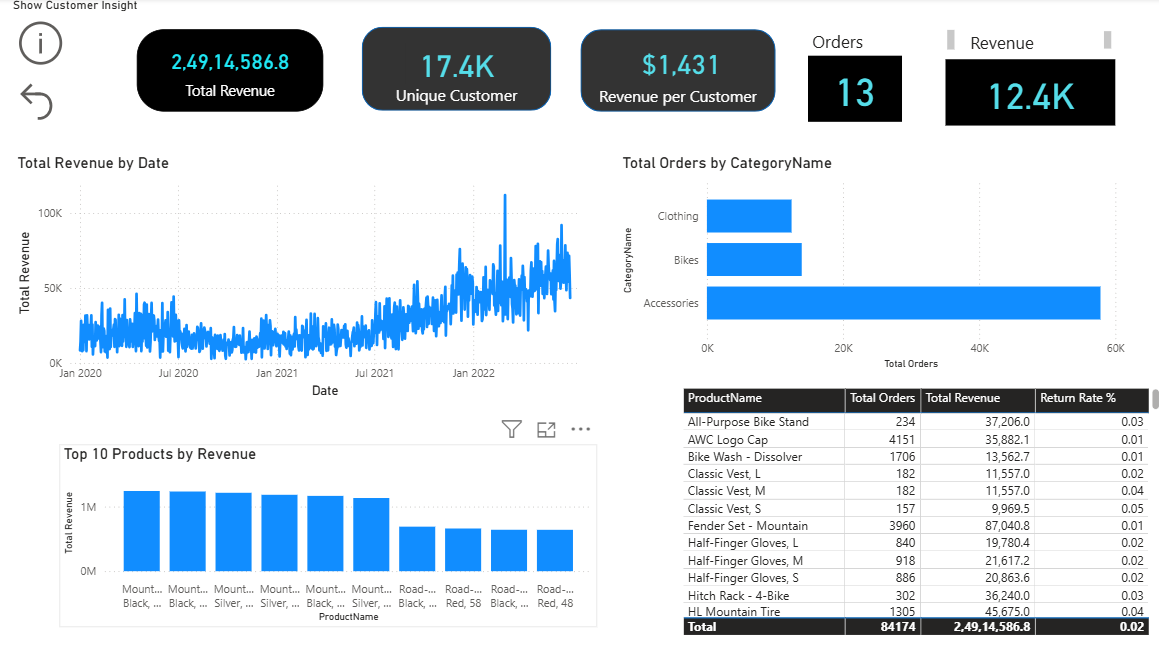

This screenshot's page, from the dashboard's own definition file:
{"tool":"powerbi","page":{"name":"Executive dashboard","canvas":[1280,720],"ordinal":3},"visuals":[{"type":"group","id":"g1","title":"Group 1","box":[399.3,31.6,208.6,93.3],"z":0},{"type":"shape","box":[399.3,31.6,208.2,92.2],"z":0,"group":"g1"},{"type":"shape","box":[639.5,34.3,214.1,90.6],"z":0,"group":"g2"},{"type":"group","id":"g2","title":"Group 1","box":[639.5,34.3,214.1,90.6],"z":1000},{"type":"card","fields":{"Values":["Measure.Revenue per Customer"]},"box":[681,44.7,139.7,52.1],"z":1000,"group":"g2"},{"type":"card","fields":{"Values":["Measure.TotalCustomers"]},"box":[446.9,49.5,112.9,44.8],"z":1000,"group":"g1"},{"type":"card","fields":{"Values":["Measure.Total Revenue"]},"box":[1040.1,67.2,186.6,72.7],"z":2000},{"type":"card","fields":{"Values":["Measure.Total Orders"]},"box":[889.2,63.1,102.9,72.7],"z":3000},{"type":"textbox","box":[889.2,30.2,166,32.9],"z":4000},{"type":"textbox","box":[1062.1,31.6,164.7,31.6],"z":5000},{"type":"actionButton","title":"Show Customer Insight","box":[17,0,137.9,80],"z":6000},{"type":"actionButton","box":[16.7,88.3,100,51.7],"z":7000},{"type":"card","fields":{"Values":["Measure.Total Revenue"]},"box":[152.3,34.3,204.5,90.6],"z":8000},{"type":"barChart","fields":{"Category":["Product Categories Lookup.CategoryName"],"Y":["Measure.Total Orders"]},"box":[680.6,170.2,561.2,242.9],"z":9000},{"type":"tableEx","fields":{"Values":["Product Lookup-a.ProductName","Measure.Total Orders","Measure.Total Revenue","Measure.Return Rate %"]},"box":[746.5,424,533.8,279.9],"z":10000},{"type":"lineChart","fields":{"Category":["Calendar Lookup.Date Hierarchy.Date"],"Y":["Measure.Total Revenue"]},"box":[16.5,170.2,640.8,274.4],"z":11000},{"type":"clusteredColumnChart","title":"Top 10  Products by Revenue","fields":{"Category":["Product Lookup-a.ProductName"],"Y":["Measure.Total Revenue"]},"box":[67.2,489.9,590.1,200.3],"z":12000}]}

Visuals, with their boxes in screenshot pixels (x1, y1, x2, y2), scaled from the page's 1280x720 canvas onto the 1159x651 screenshot:
"Group 1" group: [x1=362, y1=29, x2=550, y2=113]
shape: [x1=362, y1=29, x2=550, y2=112]
shape: [x1=579, y1=31, x2=773, y2=113]
"Group 1" group: [x1=579, y1=31, x2=773, y2=113]
card - Measure.Revenue per Customer: [x1=617, y1=40, x2=743, y2=88]
card - Measure.TotalCustomers: [x1=405, y1=45, x2=507, y2=85]
card - Measure.Total Revenue: [x1=942, y1=61, x2=1111, y2=126]
card - Measure.Total Orders: [x1=805, y1=57, x2=898, y2=123]
textbox: [x1=805, y1=27, x2=955, y2=57]
textbox: [x1=962, y1=29, x2=1111, y2=57]
"Show Customer Insight" actionButton: [x1=15, y1=0, x2=140, y2=72]
actionButton: [x1=15, y1=80, x2=106, y2=127]
card - Measure.Total Revenue: [x1=138, y1=31, x2=323, y2=113]
barChart - Product Categories Lookup.CategoryName x Measure.Total Orders: [x1=616, y1=154, x2=1124, y2=374]
tableEx - Product Lookup-a.ProductName x Measure.Total Orders: [x1=676, y1=383, x2=1158, y2=636]
lineChart - Calendar Lookup.Date Hierarchy.Date x Measure.Total Revenue: [x1=15, y1=154, x2=595, y2=402]
"Top 10  Products by Revenue" clusteredColumnChart: [x1=61, y1=443, x2=595, y2=624]
